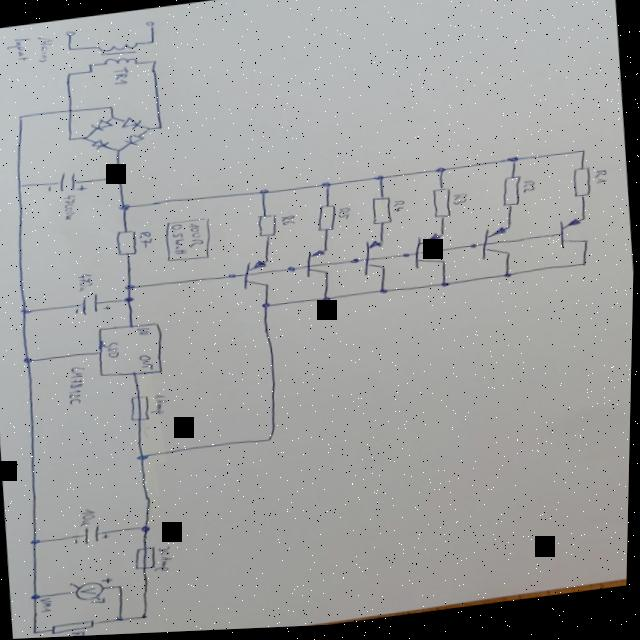capacitor: (47, 168, 89, 195), (73, 291, 114, 316), (75, 522, 114, 546)
crossover: (67, 106, 76, 113)
diode: (124, 130, 148, 146), (91, 116, 115, 132), (122, 114, 144, 131), (91, 137, 112, 149)
junction: (137, 452, 154, 462), (319, 182, 335, 192), (264, 435, 279, 445), (111, 172, 126, 182), (31, 536, 47, 545), (507, 158, 522, 167), (436, 168, 449, 177), (125, 294, 138, 303), (142, 524, 155, 533), (24, 354, 37, 363), (262, 301, 275, 310), (441, 282, 454, 291), (378, 288, 391, 297), (120, 202, 133, 211), (350, 257, 362, 266), (228, 272, 240, 281), (126, 282, 139, 290), (322, 296, 335, 304), (259, 188, 271, 196), (289, 265, 299, 274), (504, 274, 515, 282), (469, 245, 480, 253), (22, 306, 32, 314), (33, 592, 44, 599), (581, 264, 590, 272), (83, 133, 92, 141), (376, 176, 386, 183), (110, 114, 120, 121), (115, 146, 125, 152), (143, 613, 151, 620), (404, 253, 412, 260), (17, 113, 26, 119), (34, 628, 42, 634), (67, 44, 75, 50), (151, 58, 159, 64), (157, 124, 165, 130), (17, 181, 25, 187), (119, 616, 127, 622), (149, 39, 157, 44), (580, 152, 588, 157), (66, 70, 74, 75), (109, 104, 117, 109), (68, 135, 76, 140), (87, 61, 95, 66), (120, 583, 127, 588), (88, 68, 95, 73), (147, 126, 153, 131)
resistor: (501, 178, 525, 211), (432, 188, 455, 222), (571, 170, 595, 202), (371, 197, 395, 228), (52, 618, 100, 633), (115, 228, 140, 256), (258, 213, 282, 239), (317, 205, 339, 233)
terminal: (65, 28, 76, 36), (146, 20, 157, 27)
text: (66, 364, 92, 404), (5, 35, 33, 61), (171, 222, 191, 256), (157, 545, 178, 573), (35, 35, 56, 62), (62, 193, 82, 219), (188, 222, 208, 248), (151, 392, 172, 415), (77, 270, 98, 291), (112, 65, 132, 86), (138, 229, 158, 250), (81, 506, 101, 526), (105, 340, 123, 359), (594, 172, 611, 189), (42, 595, 58, 612), (141, 353, 157, 370), (521, 182, 539, 197), (453, 195, 471, 209), (281, 215, 299, 228), (339, 208, 354, 222), (394, 201, 409, 215), (72, 628, 94, 637), (138, 326, 155, 335)
transformer: (97, 37, 144, 70)
transistor: (412, 233, 450, 272), (479, 226, 516, 265), (241, 257, 278, 292), (556, 219, 590, 253), (361, 239, 389, 279), (303, 248, 334, 282)
